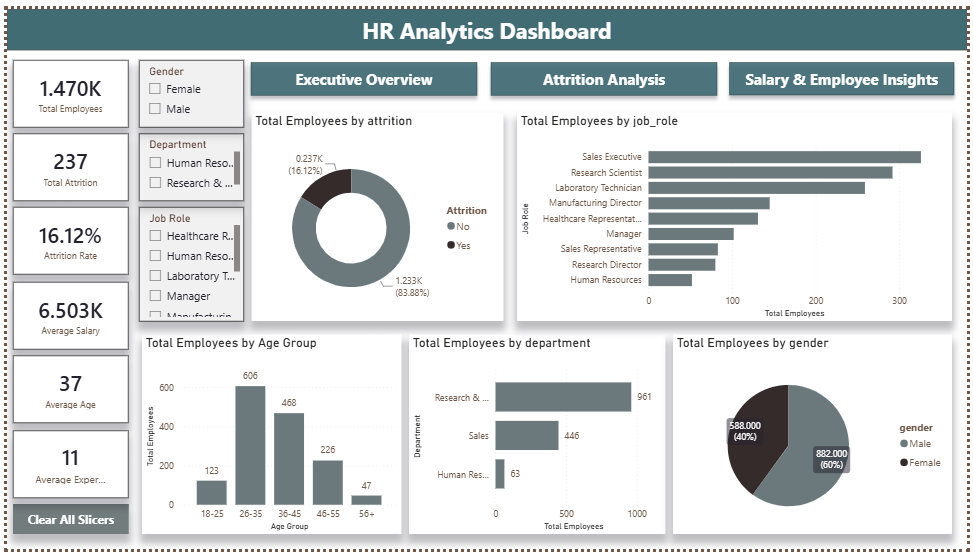

Layout of this report page (visuals, bound fields, positions):
{"tool":"powerbi","page":{"name":"Executive Overview","canvas":[1280,720],"ordinal":0},"visuals":[{"type":"donutChart","fields":{"Y":["public hr_data.Total Employees"],"Category":["public hr_data.attrition"]},"box":[326,138,336,278],"z":0},{"type":"clusteredBarChart","fields":{"Y":["public hr_data.Total Employees"],"Category":["public hr_data.department"]},"box":[536,434,342,266],"z":1000},{"type":"clusteredBarChart","fields":{"Y":["public hr_data.Total Employees"],"Category":["public hr_data.job_role"]},"box":[680,138,580,278],"z":2000},{"type":"columnChart","fields":{"Y":["public hr_data.Total Employees"],"Category":["public hr_data.Age Group"]},"box":[180,434,346,266],"z":3000},{"type":"pieChart","fields":{"Y":["public hr_data.Total Employees"],"Category":["public hr_data.gender"]},"box":[888,434,372,266],"z":4000},{"type":"shape","box":[0,0,1280,55],"z":7000},{"type":"actionButton","box":[635,62.5,320,62.5],"z":8000},{"type":"actionButton","box":[315,62.5,320,62.5],"z":9000},{"type":"actionButton","box":[954,62,318,62],"z":10000},{"type":"actionButton","box":[8.9,660,154.4,40],"z":11000},{"type":"cardVisual","fields":{"Data":["public hr_data.Total Employees"]},"box":[8.6,67.1,154.3,90],"z":12000},{"type":"cardVisual","fields":{"Data":["public hr_data.Total Attrition"]},"box":[8.6,165.7,154.3,90],"z":13000},{"type":"cardVisual","fields":{"Data":["public hr_data.Attrition Rate"]},"box":[8.6,264.3,154.3,90],"z":14000},{"type":"cardVisual","fields":{"Data":["public hr_data.Average Salary"]},"box":[8.6,364.3,154.3,90],"z":15000},{"type":"cardVisual","fields":{"Data":["public hr_data.Average Age"]},"box":[8.6,462.9,154.3,90],"z":16000},{"type":"cardVisual","fields":{"Data":["public hr_data.Average Experience"]},"box":[8.6,561.4,154.3,90],"z":17000},{"type":"slicer","fields":{"Values":["public hr_data.gender"]},"box":[175.7,67.1,140,90],"z":17001},{"type":"slicer","fields":{"Values":["public hr_data.department"]},"box":[175.7,165.7,140,90],"z":17002},{"type":"slicer","fields":{"Values":["public hr_data.job_role"]},"box":[175.7,264.3,140,152.9],"z":17003}]}

Visuals, with their boxes in screenshot pixels (x1, y1, x2, y2), scaled from the page's 1280x720 canvas onto the 973x556 screenshot:
donutChart - public hr_data.Total Employees x public hr_data.attrition: (248,107,503,321)
clusteredBarChart - public hr_data.Total Employees x public hr_data.department: (407,335,667,541)
clusteredBarChart - public hr_data.Total Employees x public hr_data.job_role: (517,107,958,321)
columnChart - public hr_data.Total Employees x public hr_data.Age Group: (137,335,400,541)
pieChart - public hr_data.Total Employees x public hr_data.gender: (675,335,958,541)
shape: (0,0,972,42)
actionButton: (483,48,726,97)
actionButton: (239,48,483,97)
actionButton: (725,48,967,96)
actionButton: (7,510,124,541)
cardVisual - public hr_data.Total Employees: (7,52,124,121)
cardVisual - public hr_data.Total Attrition: (7,128,124,197)
cardVisual - public hr_data.Attrition Rate: (7,204,124,274)
cardVisual - public hr_data.Average Salary: (7,281,124,351)
cardVisual - public hr_data.Average Age: (7,357,124,427)
cardVisual - public hr_data.Average Experience: (7,434,124,503)
slicer - public hr_data.gender: (134,52,240,121)
slicer - public hr_data.department: (134,128,240,197)
slicer - public hr_data.job_role: (134,204,240,322)
